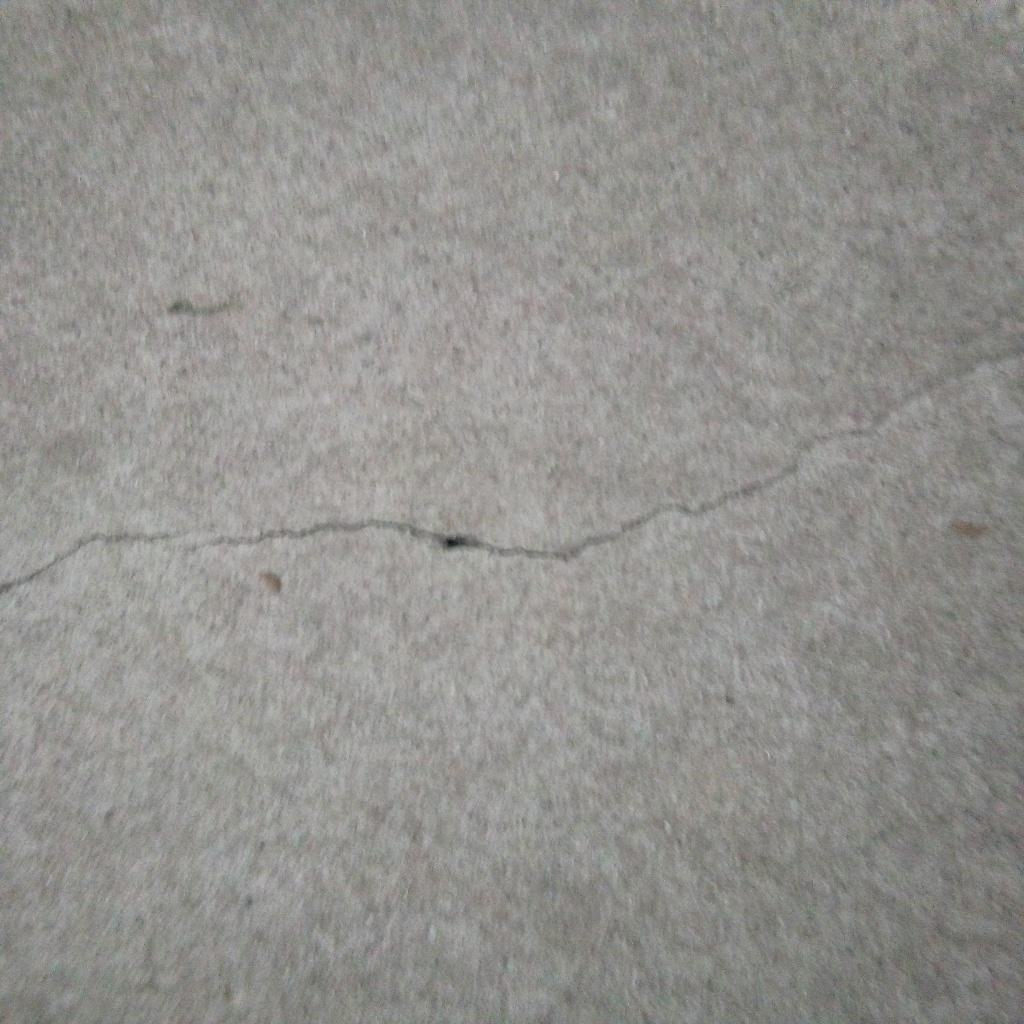Crack: (1, 348, 1024, 595)
